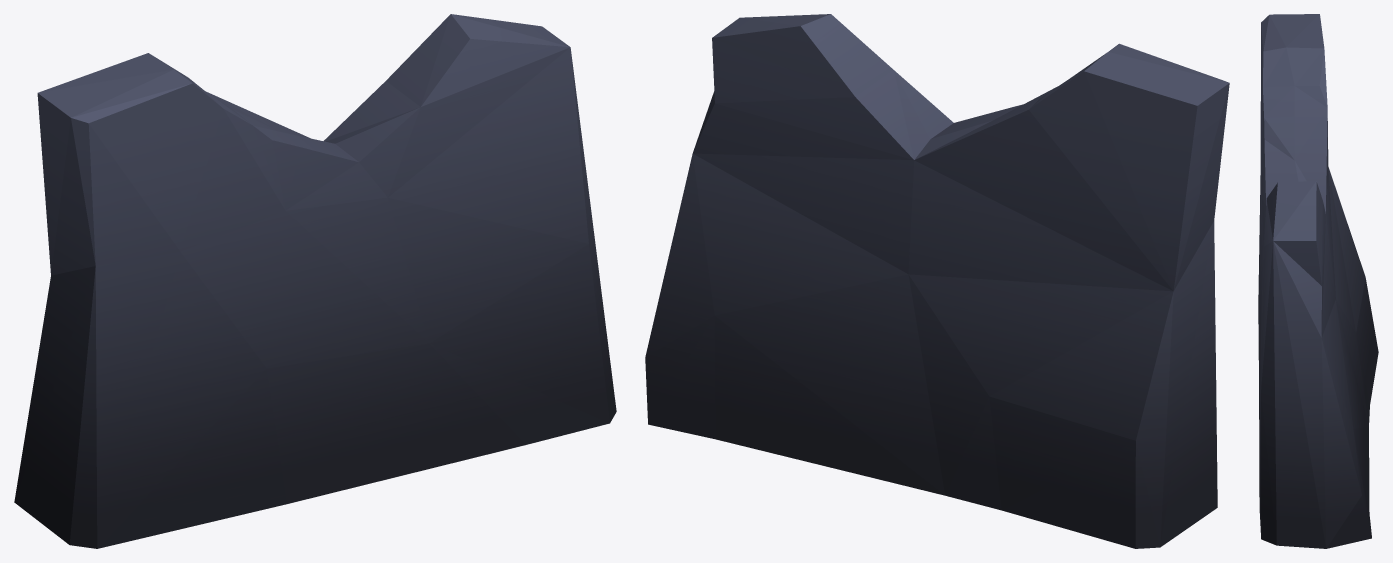
Rendered from SM_Ruined_Walls_4.fbx.
3 renders of one model, left to right at view 1: azimuth 30°, elevation 25°; view 2: azimuth 150°, elevation 25°; view 3: azimuth 270°, elevation 25°, orthographic. The views are drawn at different scales.
Parts seen in each view (by area): view 1: Ruined_Walls_4; view 2: Ruined_Walls_4; view 3: Ruined_Walls_4.
Part boxes in pixels (left/top/right/bottom): Ruined_Walls_4: left=14, top=14, right=616, bottom=548; Ruined_Walls_4: left=645, top=14, right=1229, bottom=548; Ruined_Walls_4: left=1258, top=14, right=1378, bottom=548.
Bounding box in the file's own units: 338 × 257 × 82.94.
1 material, 1 textured.
